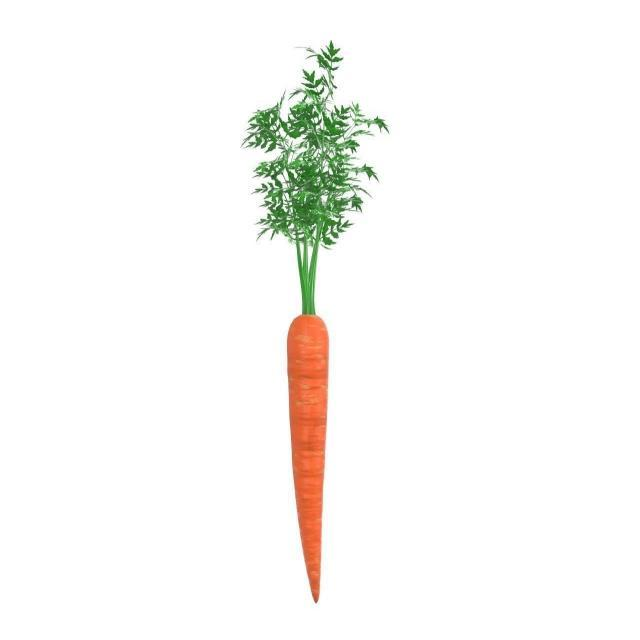carrot: (285, 300, 333, 606)
